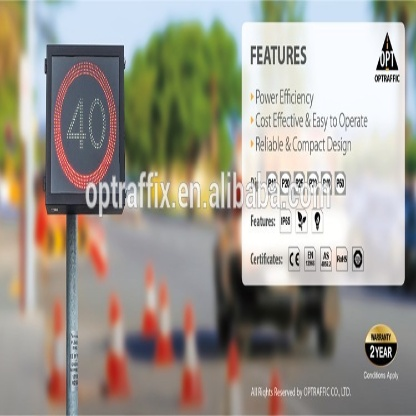limit2: (50, 53, 121, 193)
